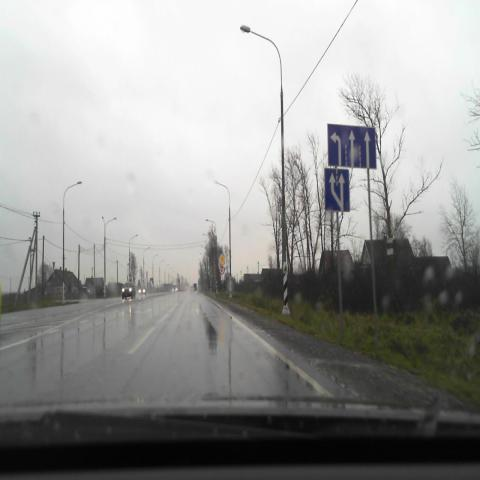5_15_3: (325, 169, 349, 210)
